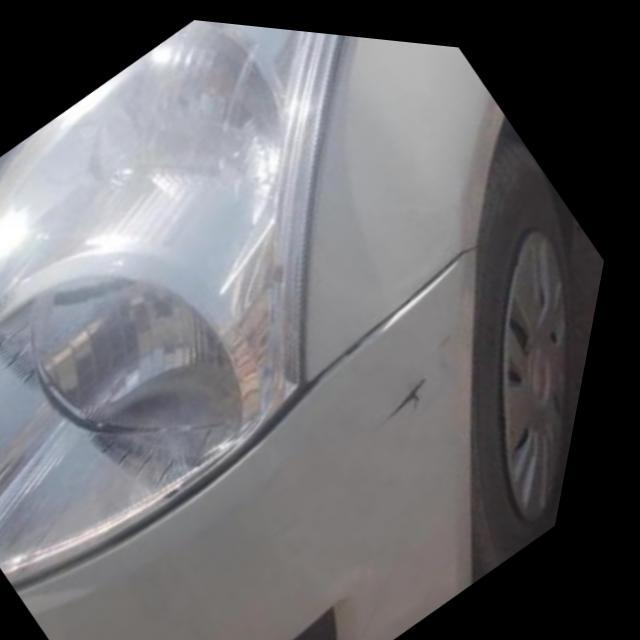crack: (395, 360, 446, 423)
